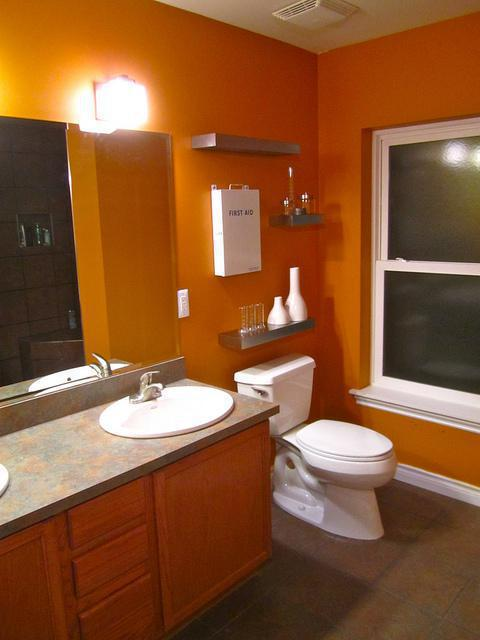Lavamanos: (101, 375, 237, 442)
Sanitario: (231, 352, 410, 547)
